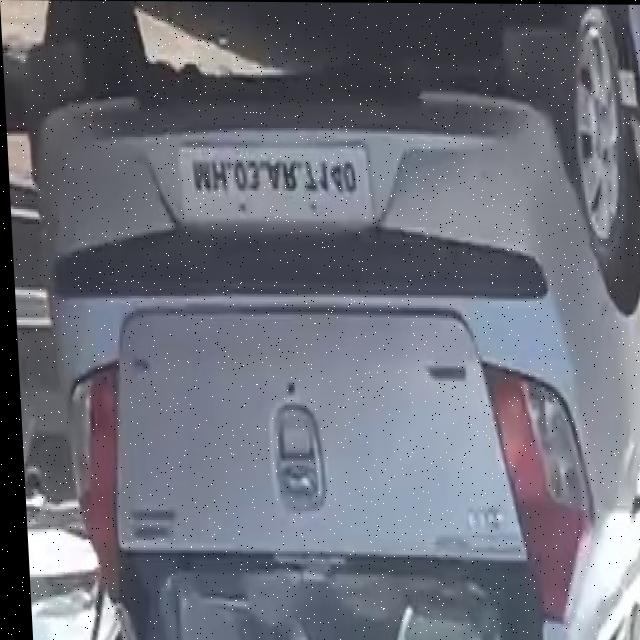plate: (178, 143, 373, 223)
